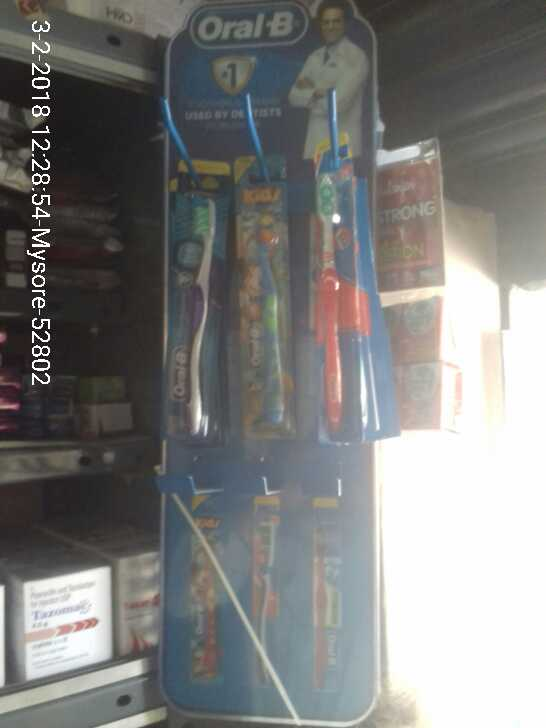oralb: (234, 182, 297, 429), (305, 177, 360, 444), (167, 178, 219, 429)
